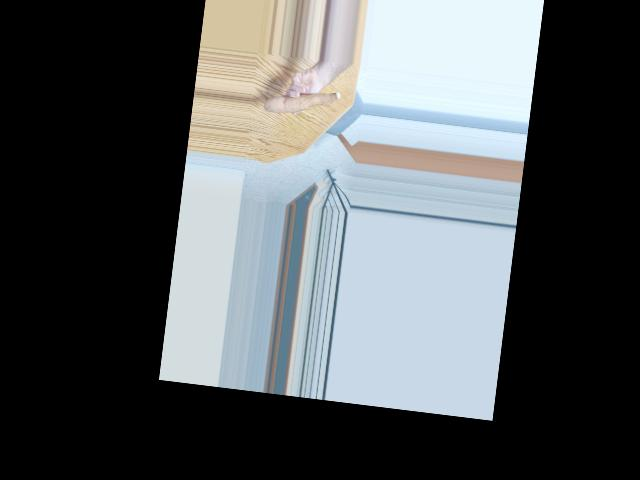sweet_potato: (266, 82, 339, 124)
